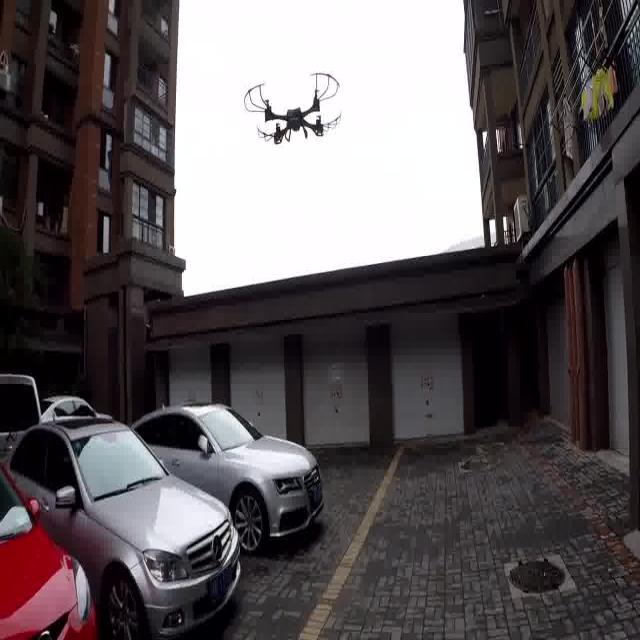drone: (212, 42, 356, 169), (239, 55, 349, 167)
